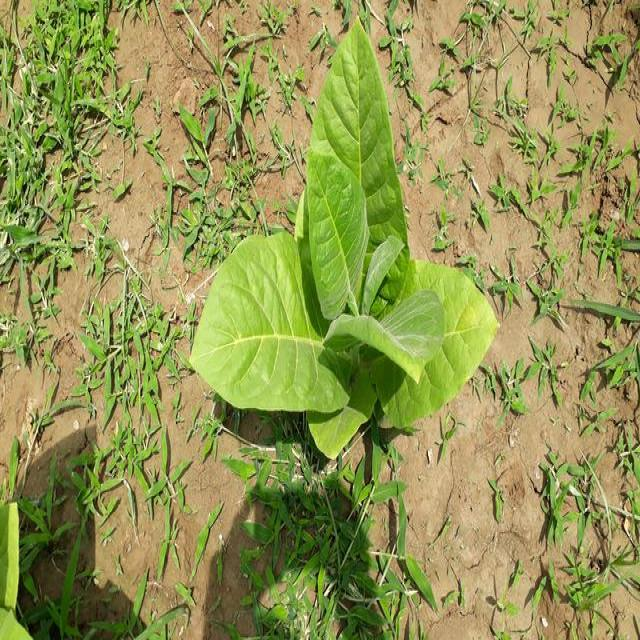crop: (185, 20, 498, 467)
